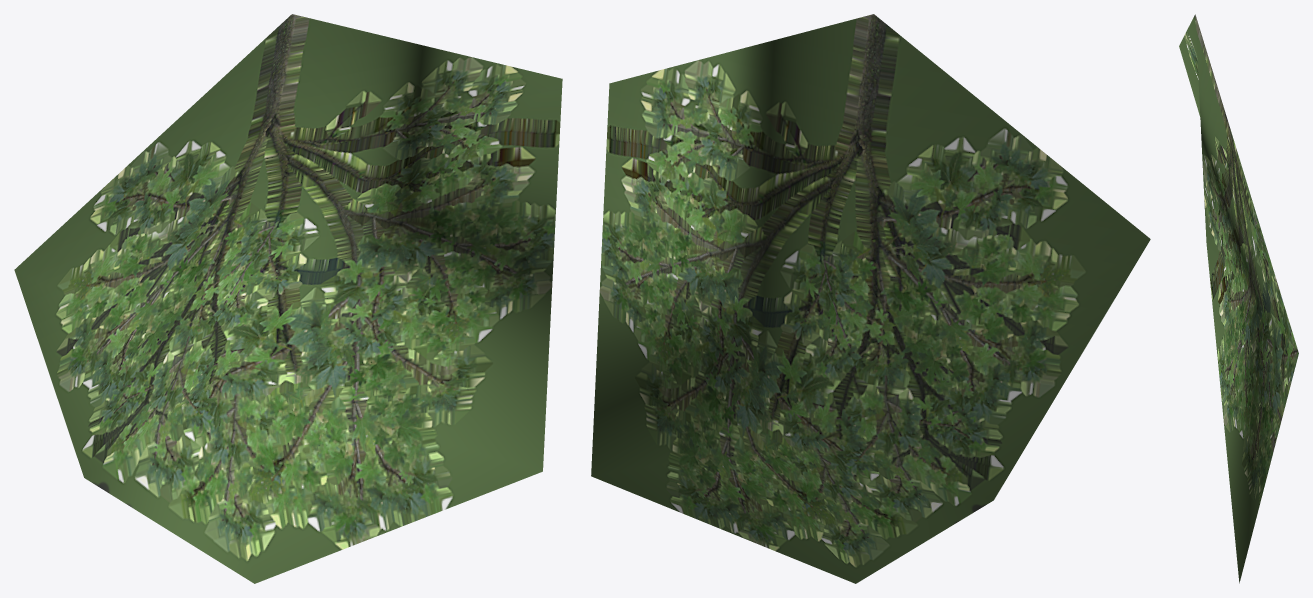
Rendered from sycamoreBranch01.fbx.
The picture shows the model from 3 angles, left to right: view 1: azimuth 30°, elevation 25°; view 2: azimuth 150°, elevation 25°; view 3: azimuth 270°, elevation 25°; orthographic projection. The views are drawn at different scales.
Parts seen in each view (by area): view 1: Polygon; view 2: Polygon; view 3: Polygon.
Boxes of the visible parts, <box> form: Polygon: <box>14,14,562,583</box>; Polygon: <box>591,14,1150,583</box>; Polygon: <box>1179,14,1298,583</box>.
Size of the model in its own units: 20 by 19.92 by 4.39.
